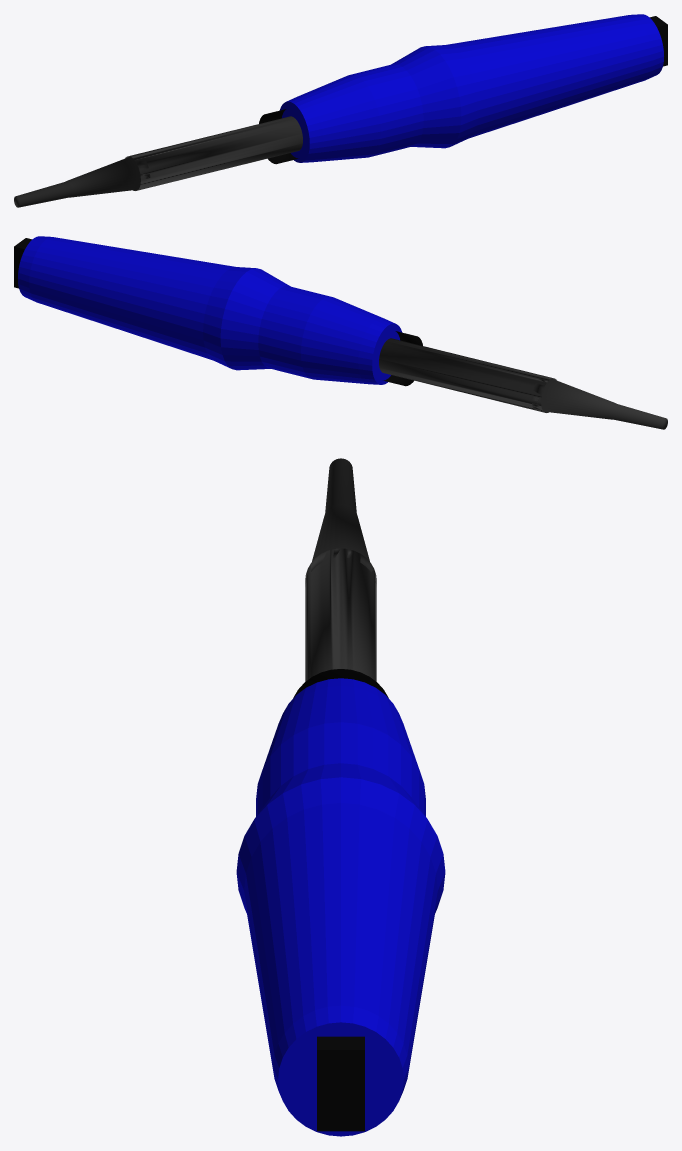
Rendered from BLUE_WELDER.obj.
3 views of the same model, one above another, from view 1: azimuth 30°, elevation 25°; view 2: azimuth 150°, elevation 25°; view 3: azimuth 270°, elevation 25° (orthographic). The views are drawn at different scales.
Visible parts, largest first — view 1: ELECTRONIC_SOLDERING_IRON_TIP_Cylinder.005, SOLDERING_TIP_Cylinder.006; view 2: ELECTRONIC_SOLDERING_IRON_TIP_Cylinder.005, SOLDERING_TIP_Cylinder.006; view 3: ELECTRONIC_SOLDERING_IRON_TIP_Cylinder.005, SOLDERING_TIP_Cylinder.006.
Part boxes in pixels (x1,y1,x2,y2): ELECTRONIC_SOLDERING_IRON_TIP_Cylinder.005: (259, 14, 667, 164); SOLDERING_TIP_Cylinder.006: (14, 116, 302, 207); ELECTRONIC_SOLDERING_IRON_TIP_Cylinder.005: (14, 236, 422, 386); SOLDERING_TIP_Cylinder.006: (379, 338, 667, 429); ELECTRONIC_SOLDERING_IRON_TIP_Cylinder.005: (236, 669, 445, 1136); SOLDERING_TIP_Cylinder.006: (305, 458, 376, 681).
Bounding box in the file's own units: 0.8539 × 0.1198 × 0.1198.
